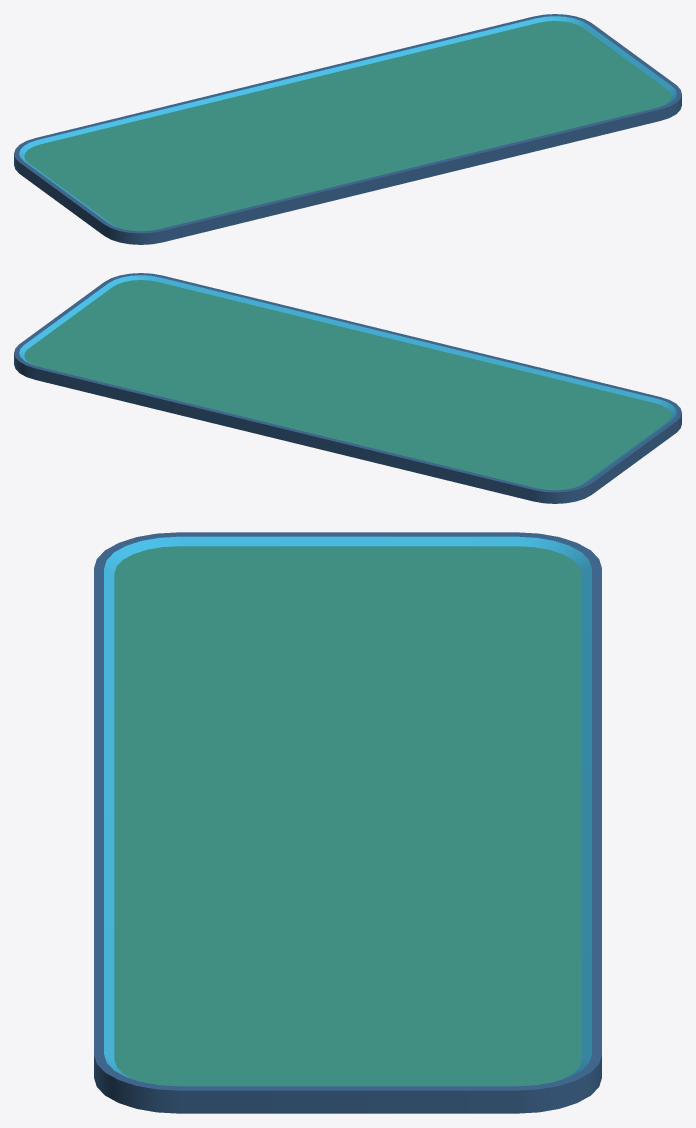
File: Water_Square.fbx
3 views of the same model, one above another, from view 1: azimuth 30°, elevation 25°; view 2: azimuth 150°, elevation 25°; view 3: azimuth 270°, elevation 25° (orthographic). The views are drawn at different scales.
Parts seen in each view (by area): view 1: Water_Square; view 2: Water_Square; view 3: Water_Square.
Boxes of the visible parts, bbox=[...] form: Water_Square: bbox=[14, 14, 681, 244]; Water_Square: bbox=[14, 273, 681, 503]; Water_Square: bbox=[94, 532, 601, 1113].
Size of the model in its own units: 7.8 by 3 by 0.15.
